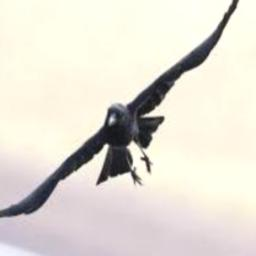Crow: (0, 0, 242, 221)
